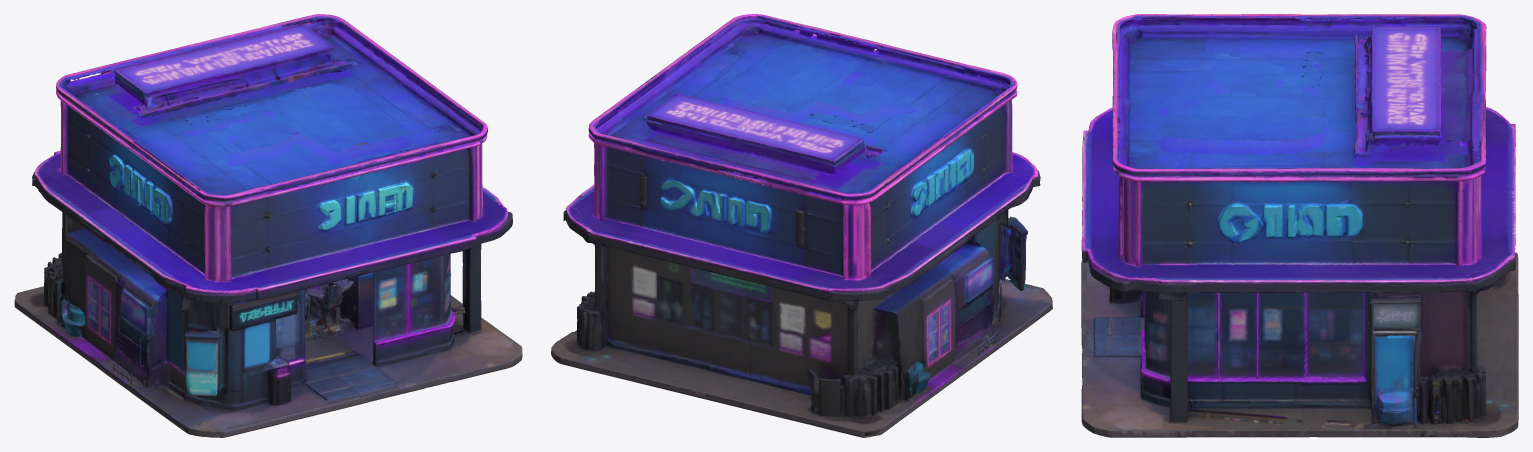
Rendered from store_1.glb.
The picture shows the model from 3 angles, left to right: view 1: azimuth 30°, elevation 25°; view 2: azimuth 150°, elevation 25°; view 3: azimuth 270°, elevation 25°; orthographic projection. The views are drawn at different scales.
Bounding box in the file's own units: 2 × 1.36 × 2.
Materials: 1 (1 with a texture image).
